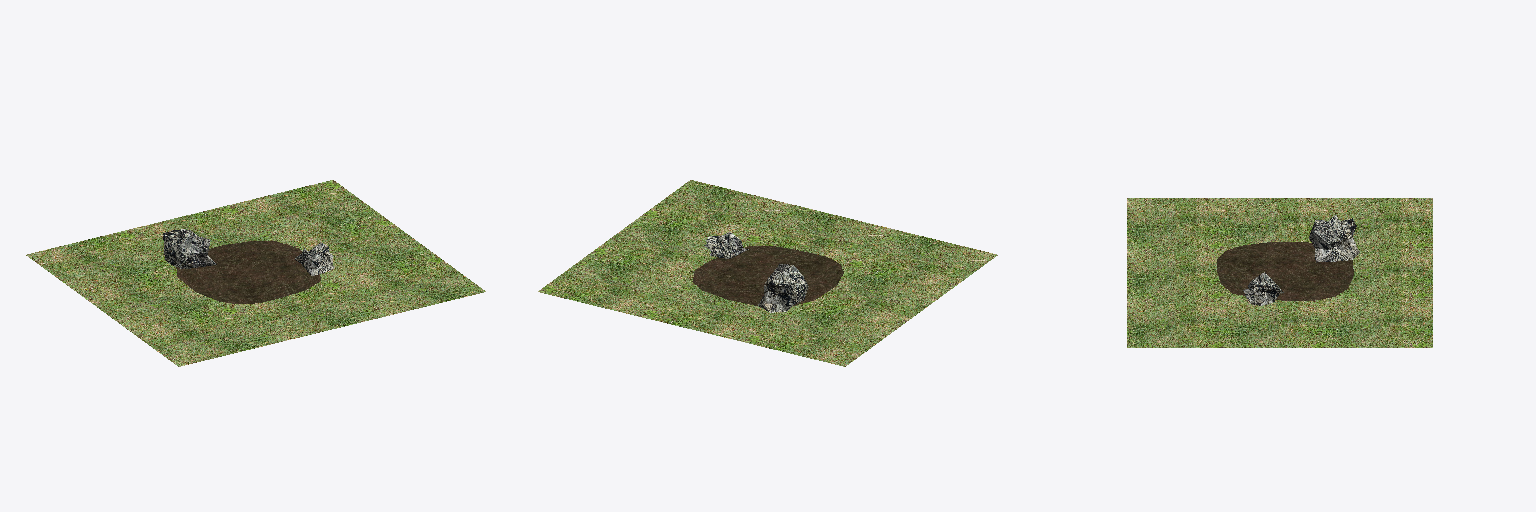
3 views of the same model, side by side, from view 1: azimuth 30°, elevation 25°; view 2: azimuth 150°, elevation 25°; view 3: azimuth 270°, elevation 25° (orthographic).
Visible parts, largest first — view 1: Sol_1, Sol, Cube_2, Cube_2_1; view 2: Sol_1, Sol, Cube_2, Cube_2_1; view 3: Sol_1, Sol, Cube_2, Cube_2_1.
Boxes of the visible parts, x1=… form: Sol_1: x1=26, y1=180, x2=485, y2=366; Sol: x1=176, y1=241, x2=320, y2=303; Cube_2: x1=163, y1=229, x2=216, y2=268; Cube_2_1: x1=295, y1=242, x2=333, y2=275; Sol_1: x1=538, y1=180, x2=997, y2=366; Sol: x1=692, y1=246, x2=843, y2=305; Cube_2: x1=758, y1=264, x2=808, y2=312; Cube_2_1: x1=704, y1=232, x2=748, y2=258; Sol_1: x1=1127, y1=198, x2=1432, y2=347; Sol: x1=1217, y1=242, x2=1353, y2=300; Cube_2: x1=1309, y1=215, x2=1359, y2=262; Cube_2_1: x1=1243, y1=272, x2=1283, y2=305.
Bounding box in the file's own units: 18.01 × 2.04 × 15.53.
Materials: 3 (3 with a texture image).